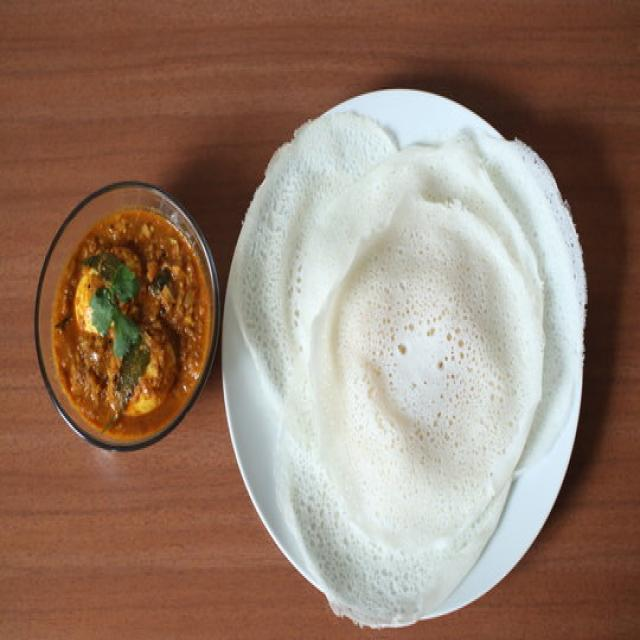AAPAM: (228, 107, 582, 620)
CURRY: (52, 210, 213, 439)
